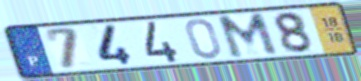0: (183, 17, 224, 60)
4: (96, 22, 139, 68), (143, 20, 181, 64)
7: (43, 25, 86, 71)
8: (274, 10, 315, 54)
M: (214, 11, 282, 61)
